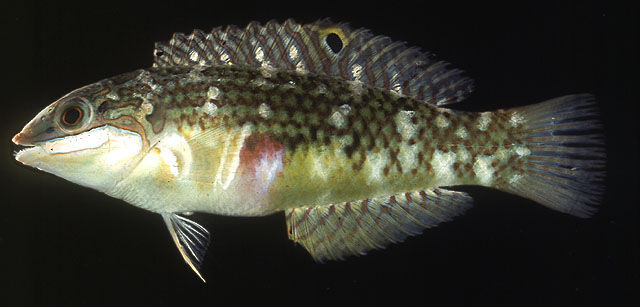fish: (12, 17, 606, 283)
